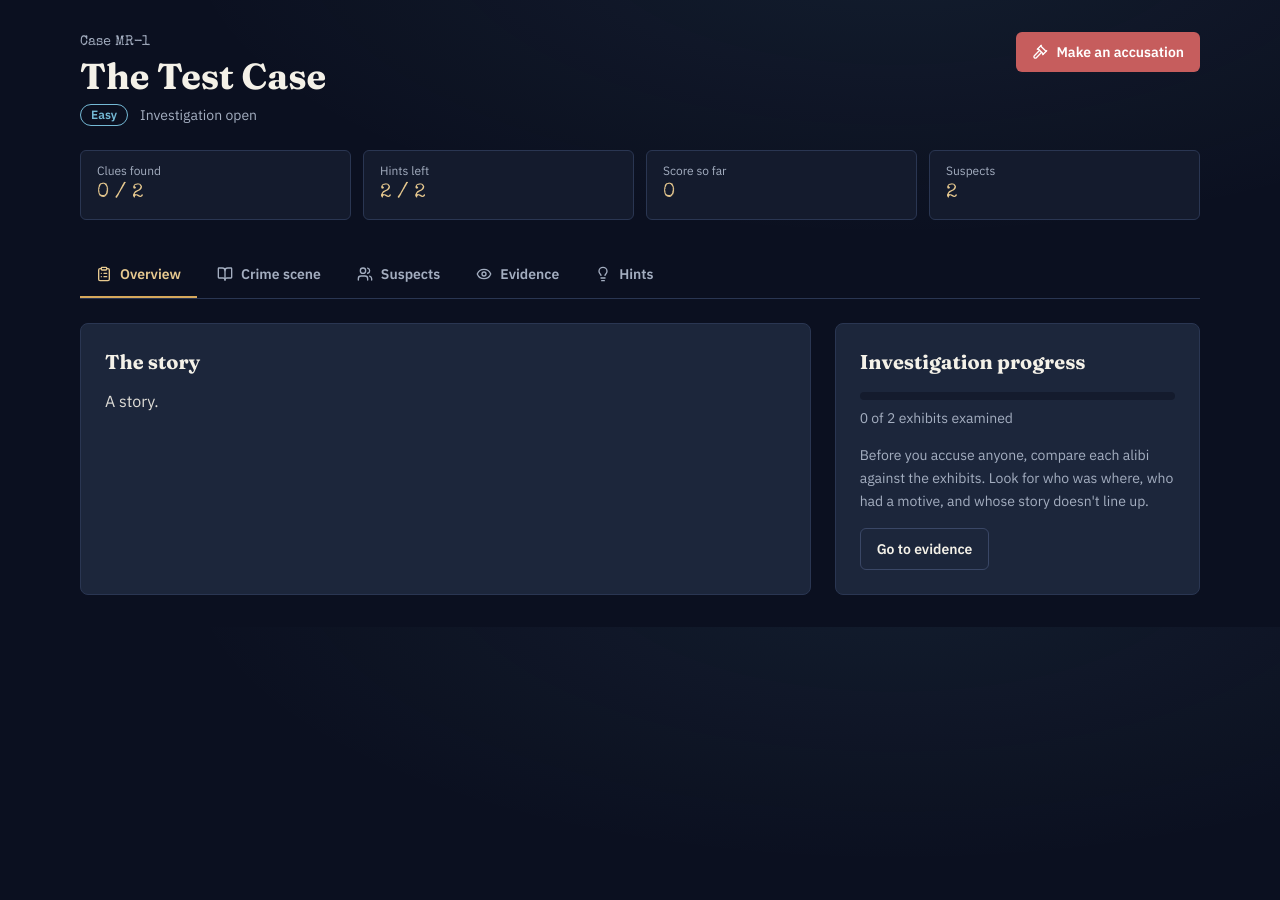
Case page › loads the case, discovers a clue via the backend and requests a hint
The width and height of the screenshot is (1280, 900).
Check: the heading "The Test Case" is shown, box 80,56 -> 326,96
Click the tab "Evidence": (518, 275) 460,252 -> 575,298
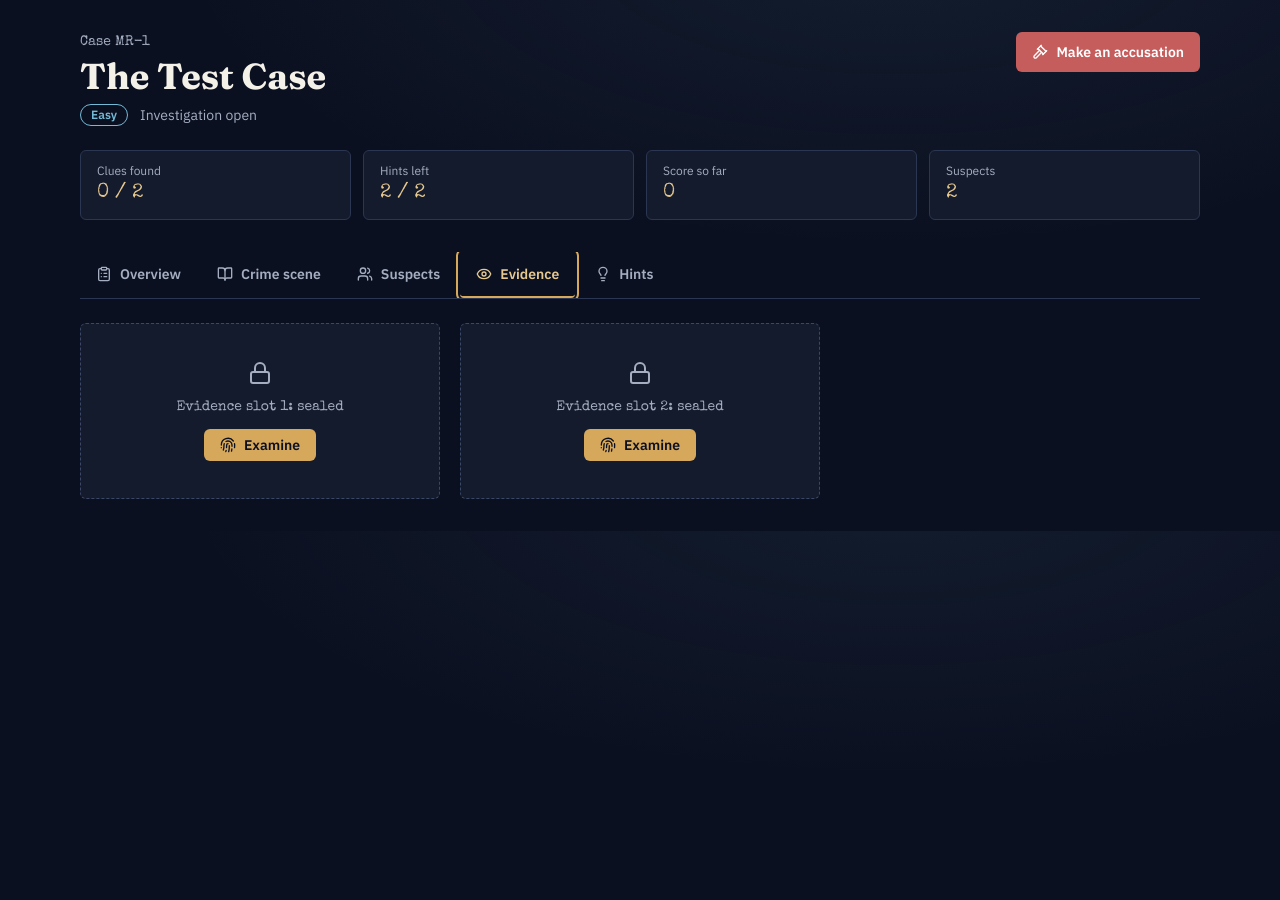
Click the button with aria-label "examine evidence slot 1": (260, 445) 204,429 -> 316,461
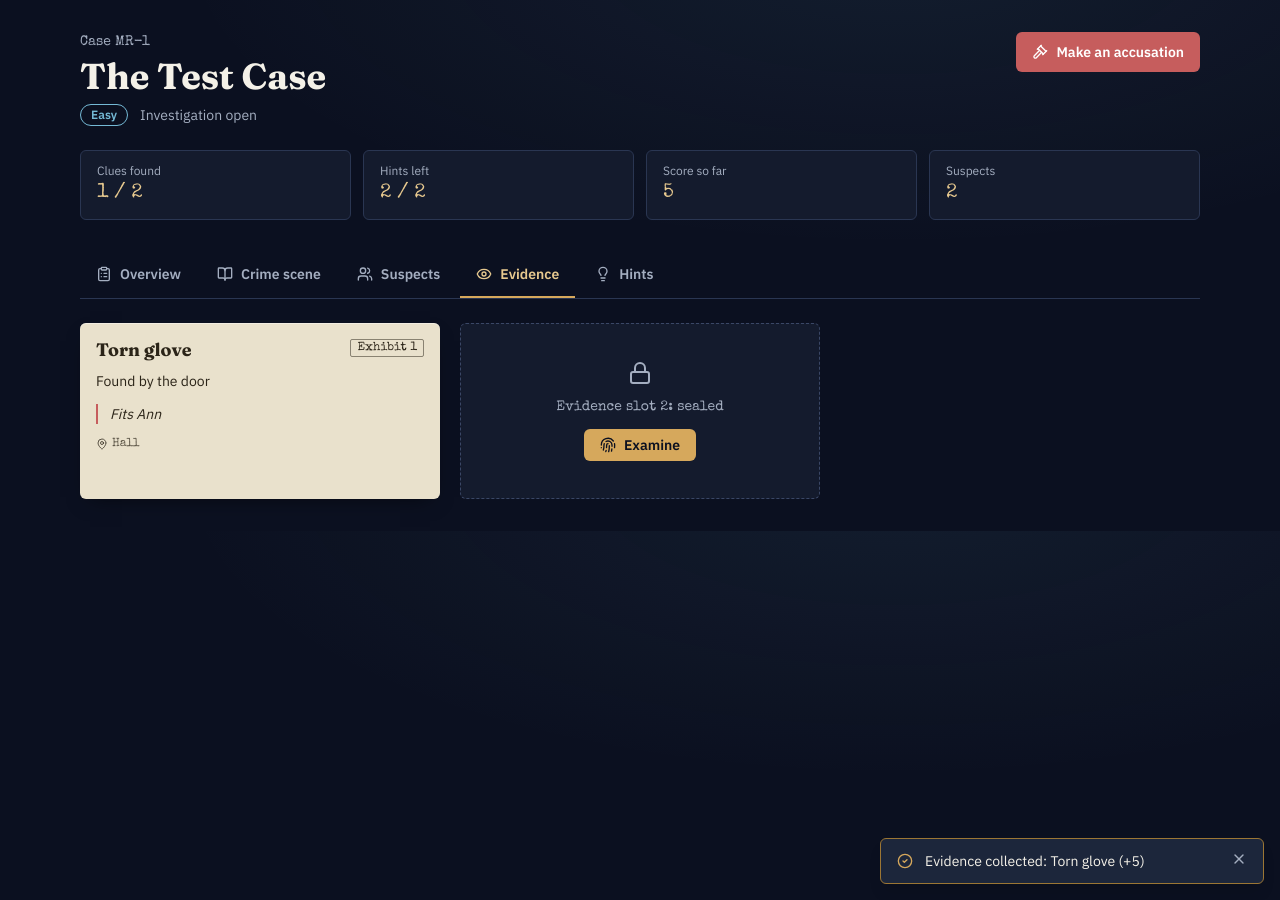
Check: the heading "Torn glove" is shown, box 96,339 -> 192,362
Click the tab "Hints": (624, 275) 579,252 -> 670,298
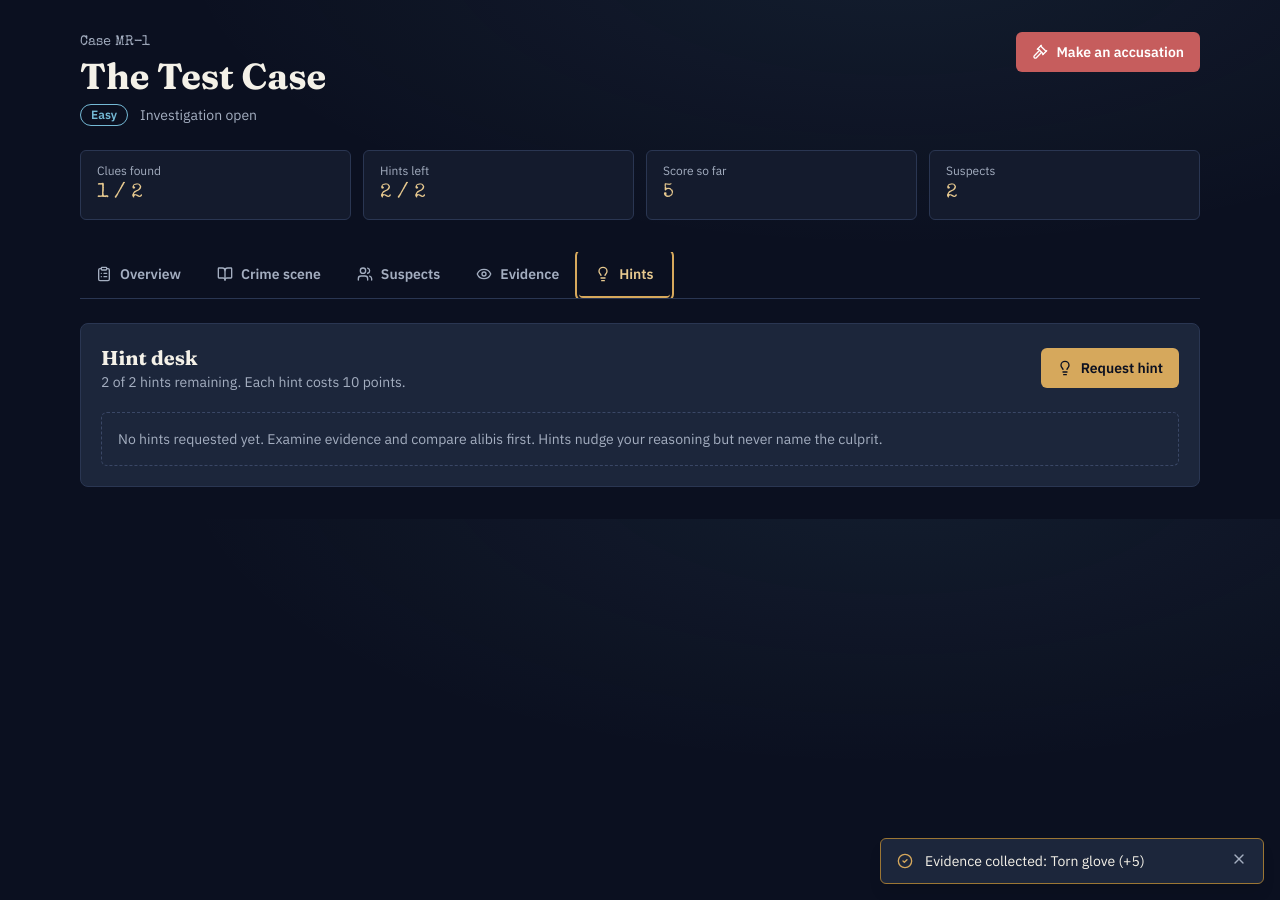
Click the button "Request hint": (1110, 368) 1041,348 -> 1179,388
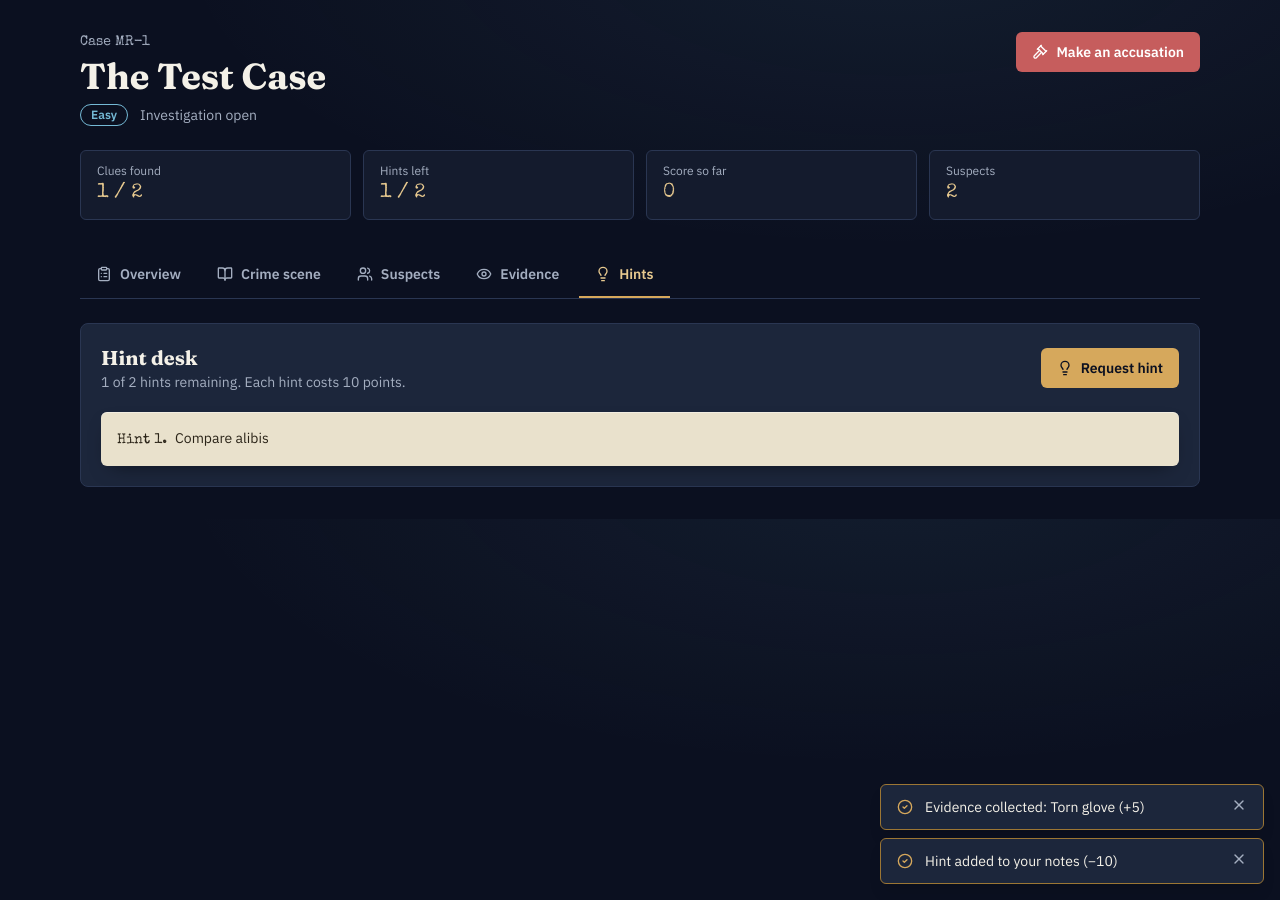
Check: the list item "Compare alibis" is shown, box 175,429 -> 269,447
Check: the text "1 of 2 hints remaining. Each hint costs 10 points." is shown, box 101,372 -> 406,392
